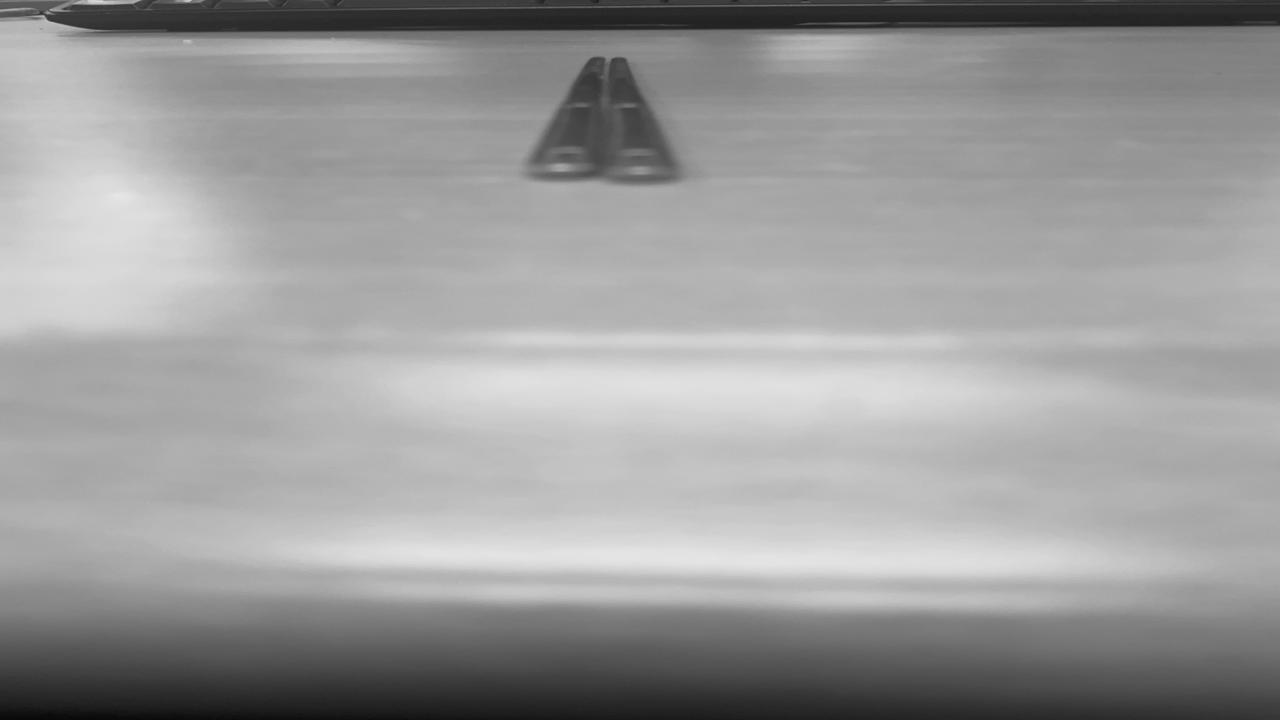chopstick: (523, 56, 675, 176)
